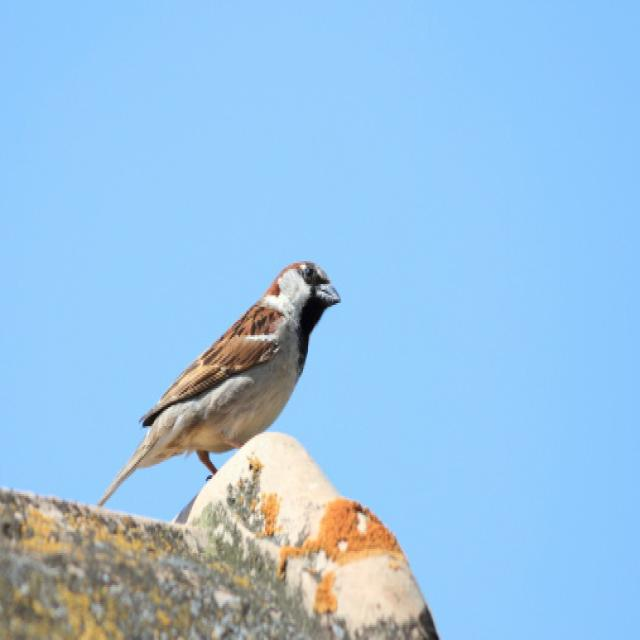bird: (116, 258, 336, 526)
